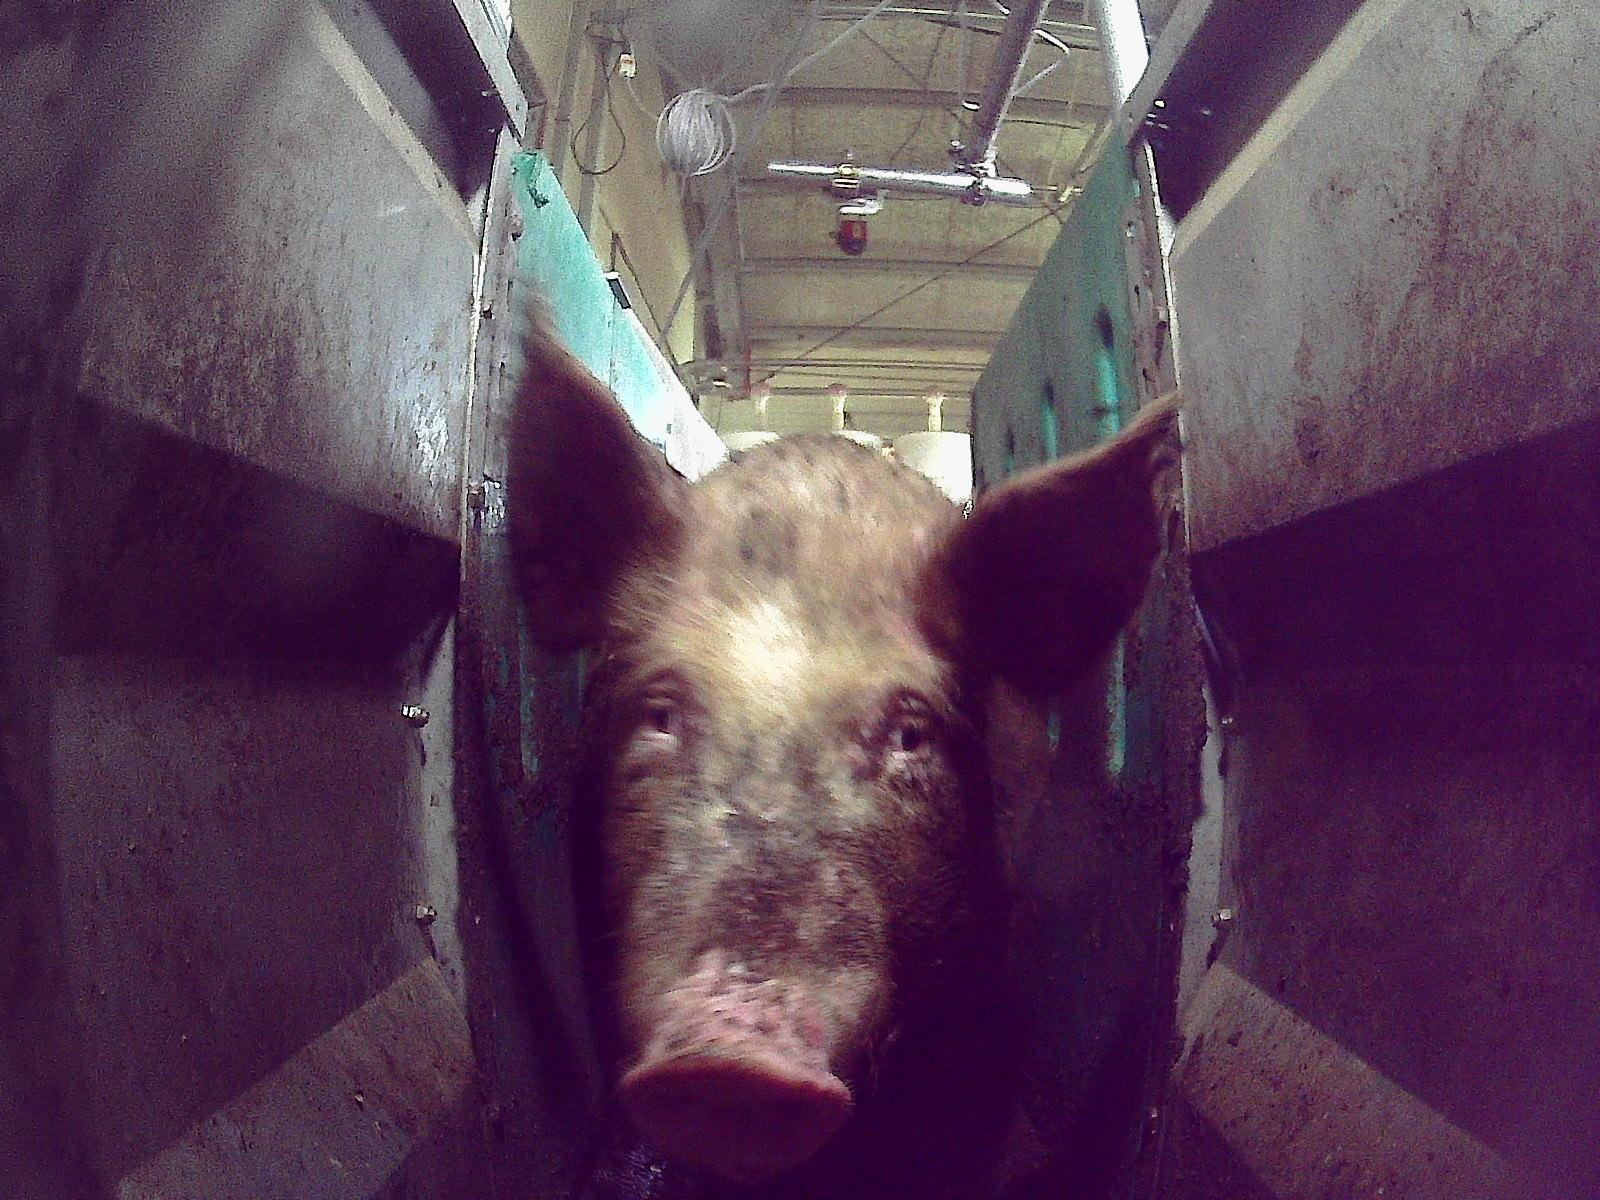Face: (592, 522, 978, 1177)
